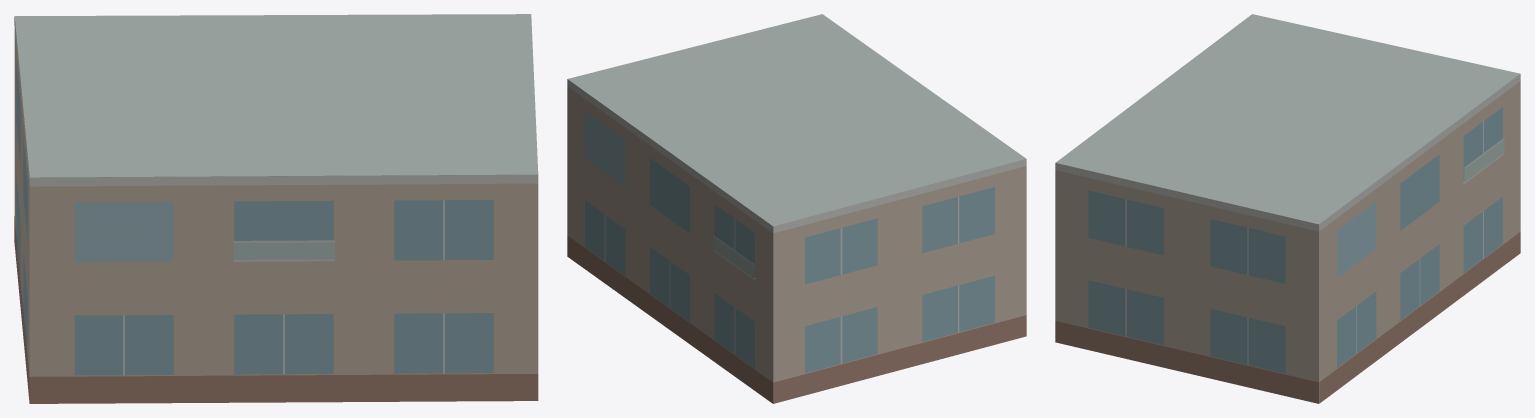
The model's file is survey-upis-32670237.glb.
3 views of the same model, side by side, from view 1: azimuth 30°, elevation 25°; view 2: azimuth 150°, elevation 25°; view 3: azimuth 270°, elevation 25° (orthographic). The views are drawn at different scales.
Visible parts, largest first — view 1: survey-upis-32670237.tmp; view 2: survey-upis-32670237.tmp; view 3: survey-upis-32670237.tmp.
Part boxes in pixels (x1,y1,x2,y2): survey-upis-32670237.tmp: (14, 14, 538, 403); survey-upis-32670237.tmp: (567, 14, 1026, 403); survey-upis-32670237.tmp: (1055, 14, 1520, 403).
Size of the model in its own units: 15.34 by 6.1 by 14.33.
